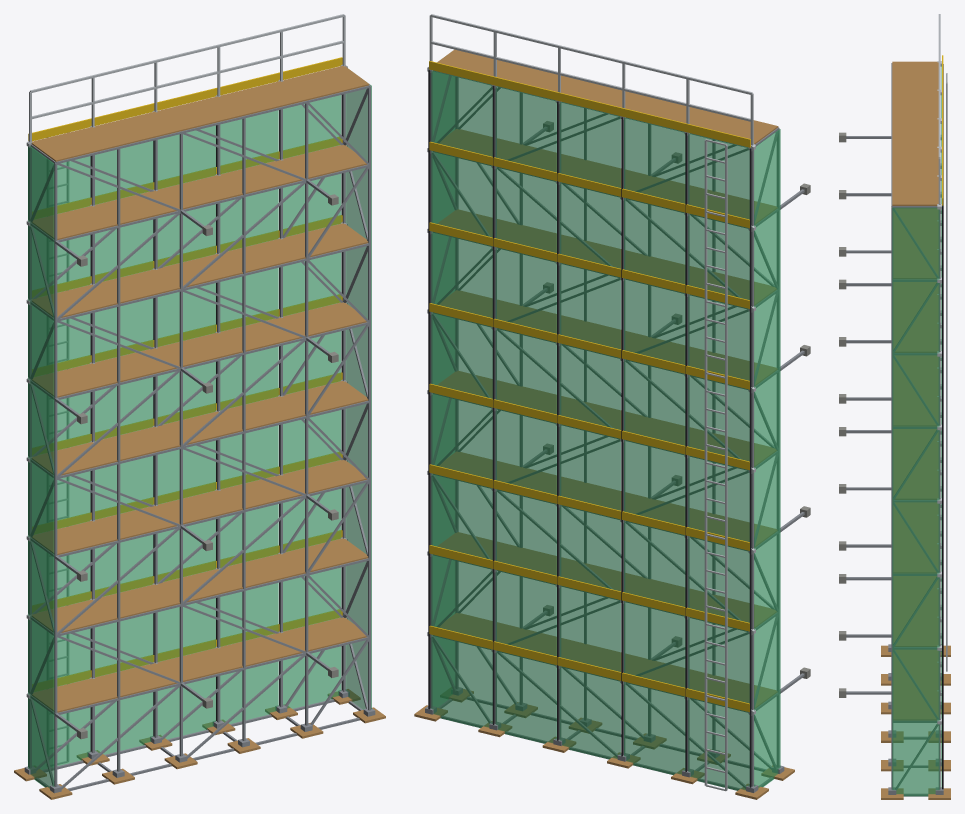
The model's file is scaffolding.glb.
The picture shows the model from 3 angles, left to right: view 1: azimuth 30°, elevation 25°; view 2: azimuth 150°, elevation 25°; view 3: azimuth 270°, elevation 25°; orthographic projection. The views are drawn at different scales.
Visible parts, largest first — view 1: Scaffolding; view 2: Scaffolding; view 3: Scaffolding.
Part boxes in pixels (bbox=[...]): Scaffolding: bbox=[14, 14, 385, 799]; Scaffolding: bbox=[414, 14, 810, 799]; Scaffolding: bbox=[839, 14, 950, 799].
Bounding box in the file's own units: 8 × 15.69 × 2.48.
